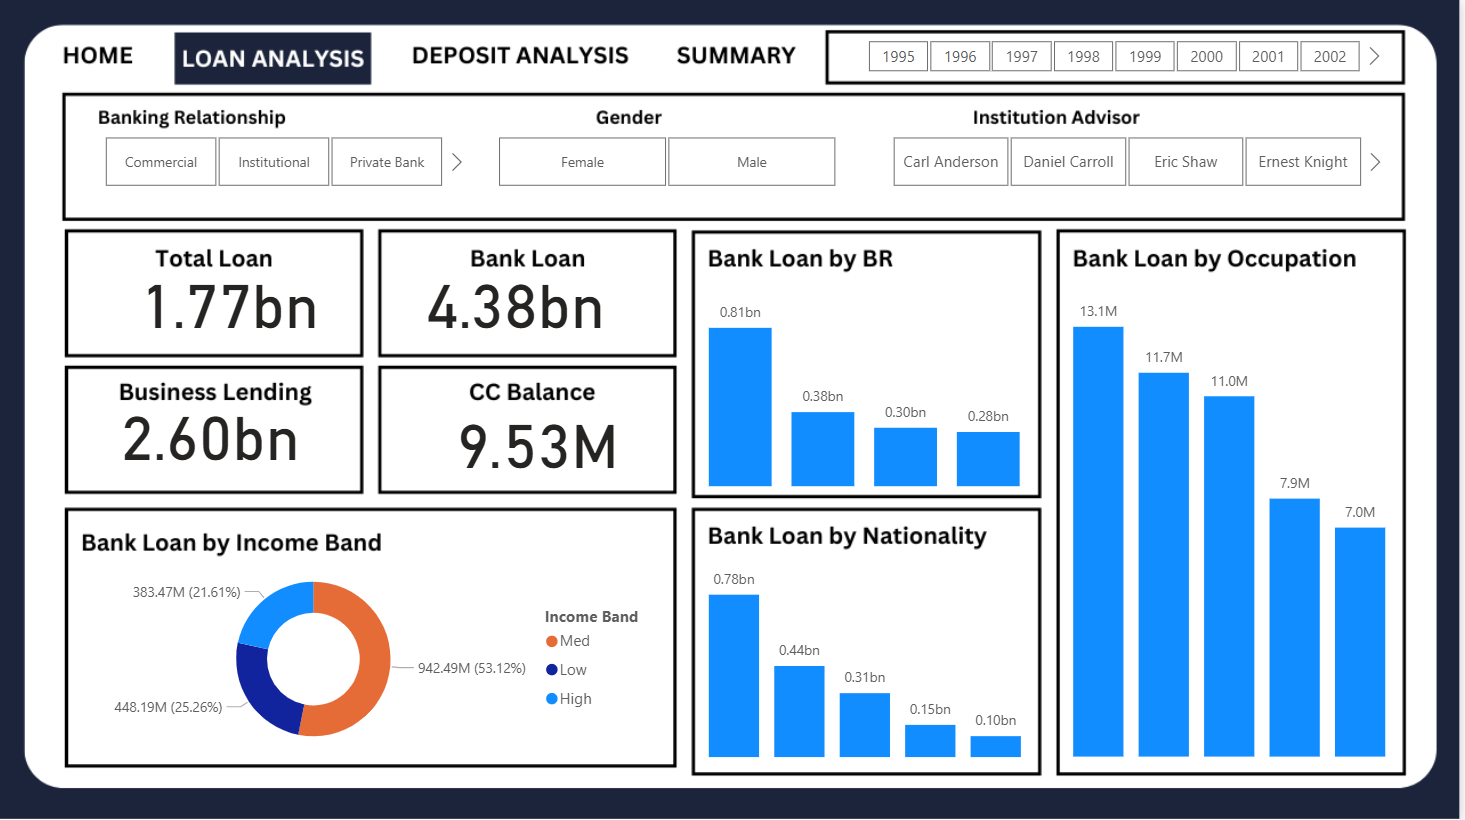

What the dashboard file says about the page in this screenshot:
{"tool":"powerbi","page":{"name":"Loan Analysis","canvas":[1280,720],"ordinal":1},"visuals":[{"type":"slicer","fields":{"Values":["Banking_Clients.Joined Bank.Variation.Date Hierarchy.Year"]},"box":[736.6,29,480.3,38.7],"z":0},{"type":"card","fields":{"Values":["Banking_Clients.Bank Loans"]},"box":[106.4,224,191.8,74.1],"z":1000},{"type":"card","fields":{"Values":["Banking Relationship.Total Loan"]},"box":[356.2,224,191.8,74.1],"z":2000},{"type":"card","fields":{"Values":["Banking_Clients.Business Lending"]},"box":[88.6,340.1,191.8,74.1],"z":3000},{"type":"card","fields":{"Values":["Banking_Clients.Credit Card Balance"]},"box":[375.5,346.5,191.8,74.1],"z":4000},{"type":"donutChart","fields":{"Category":["Banking_Clients.Income Band"],"Y":["Banking_Clients.Bank Loans"]},"box":[67.7,485.1,515.8,183.7],"z":5000},{"type":"clusteredColumnChart","fields":{"Category":["Banking Relationship.Banking Relationship"],"Y":["Banking_Clients.Bank Loans"]},"box":[617.3,248.2,285.3,183.7],"z":6000},{"type":"clusteredColumnChart","fields":{"Y":["Banking_Clients.Bank Loans"],"Category":["Banking_Clients.Nationality"]},"box":[617.3,485.1,285.3,183.7],"z":7000},{"type":"clusteredColumnChart","fields":{"Y":["Banking_Clients.Bank Loans"],"Category":["Banking_Clients.Occupation"]},"box":[936.4,248.2,285.3,420.7],"z":8000},{"type":"slicer","fields":{"Values":["Banking Relationship.Banking Relationship"]},"box":[67.7,112.8,344.9,56.4],"z":9000},{"type":"slicer","fields":{"Values":["Gender.Gender"]},"box":[412.6,112.8,344.9,56.4],"z":10000},{"type":"slicer","fields":{"Values":["Table2.Investment Advisor"]},"box":[757.5,112.8,459.3,56.4],"z":11000}]}

Visuals, with their boxes in screenshot pixels (x1, y1, x2, y2), scaled from the page's 1280x720 canvas onto the 1465x820 screenshot:
slicer - Banking_Clients.Joined Bank.Variation.Date Hierarchy.Year: left=843, top=33, right=1393, bottom=77
card - Banking_Clients.Bank Loans: left=122, top=255, right=341, bottom=340
card - Banking Relationship.Total Loan: left=408, top=255, right=627, bottom=340
card - Banking_Clients.Business Lending: left=101, top=387, right=321, bottom=472
card - Banking_Clients.Credit Card Balance: left=430, top=395, right=649, bottom=479
donutChart - Banking_Clients.Income Band x Banking_Clients.Bank Loans: left=77, top=552, right=668, bottom=762
clusteredColumnChart - Banking Relationship.Banking Relationship x Banking_Clients.Bank Loans: left=707, top=283, right=1033, bottom=492
clusteredColumnChart - Banking_Clients.Bank Loans x Banking_Clients.Nationality: left=707, top=552, right=1033, bottom=762
clusteredColumnChart - Banking_Clients.Bank Loans x Banking_Clients.Occupation: left=1072, top=283, right=1398, bottom=762
slicer - Banking Relationship.Banking Relationship: left=77, top=128, right=472, bottom=193
slicer - Gender.Gender: left=472, top=128, right=867, bottom=193
slicer - Table2.Investment Advisor: left=867, top=128, right=1393, bottom=193
